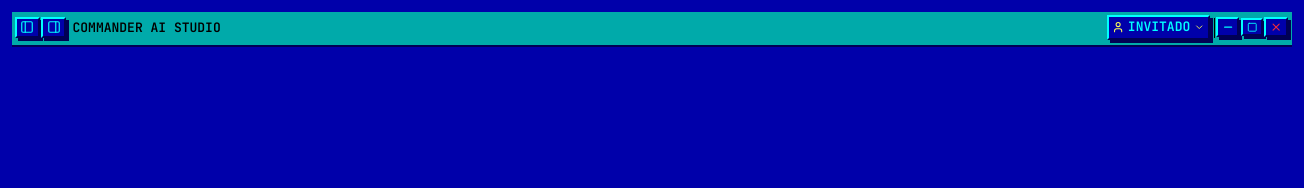
Header › menú de usuario › como invitado ofrece acceso y no muestra cerrar sesión
The image size is (1304, 188).
Click the button with aria-label "Cuenta de usuario": x=1158, y=27 [1107, 14, 1210, 40]
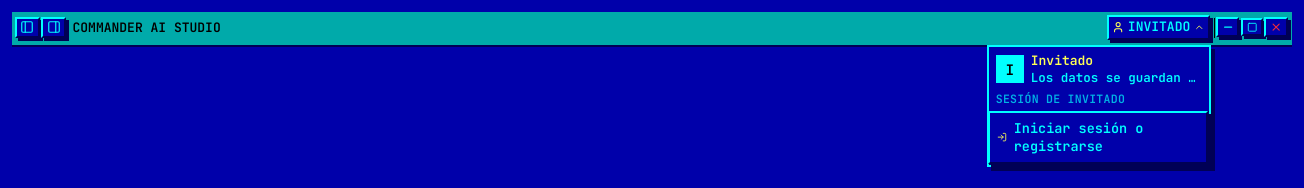
Expected: the text "Sesión de invitado" is shown, [996, 90, 1125, 106]
Click the menu item "Iniciar sesión o registrarse": x=1098, y=137 [988, 111, 1208, 164]
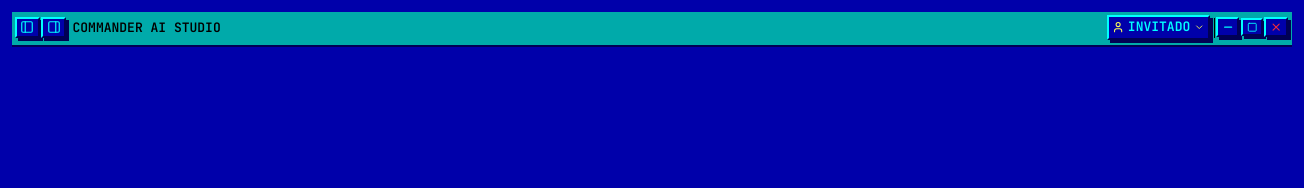
Expected: the menu is gone
